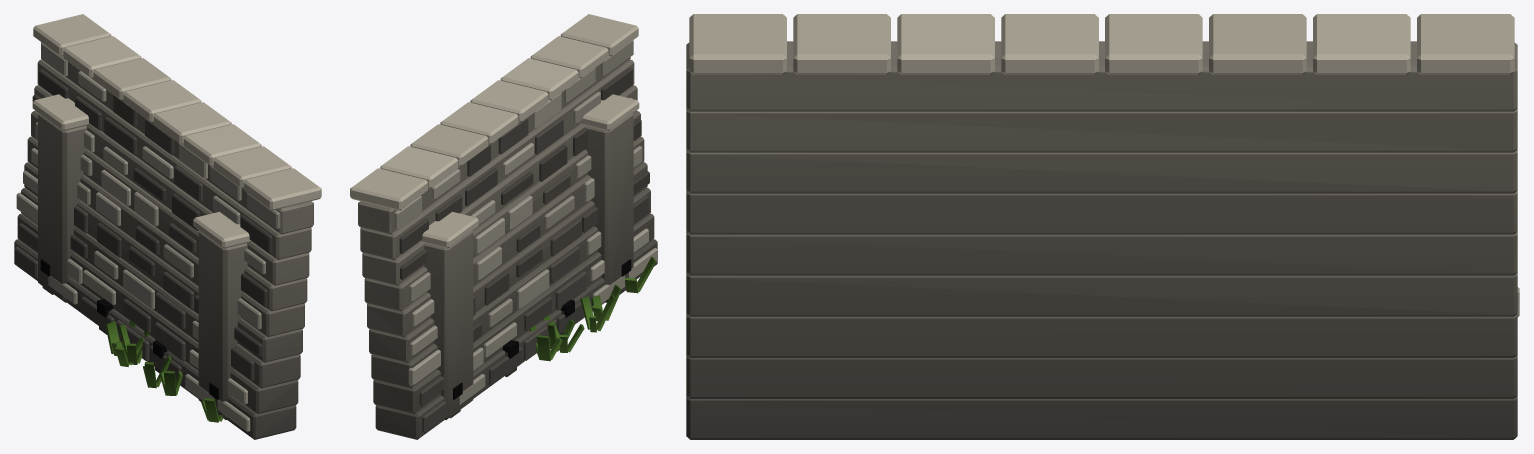
File: retaining-wall-run.glb
The picture shows the model from 3 angles, left to right: view 1: azimuth 30°, elevation 25°; view 2: azimuth 150°, elevation 25°; view 3: azimuth 270°, elevation 25°; orthographic projection. The views are drawn at different scales.
Parts seen in each view (by area): view 1: retaining_wall_run; view 2: retaining_wall_run; view 3: retaining_wall_run.
Part boxes in pixels (x1,y1,x2,y2): retaining_wall_run: [14, 14, 321, 439]; retaining_wall_run: [350, 14, 657, 439]; retaining_wall_run: [686, 14, 1519, 439].
Size of the model in its own units: 0.9923 by 2.17 by 4.01.
